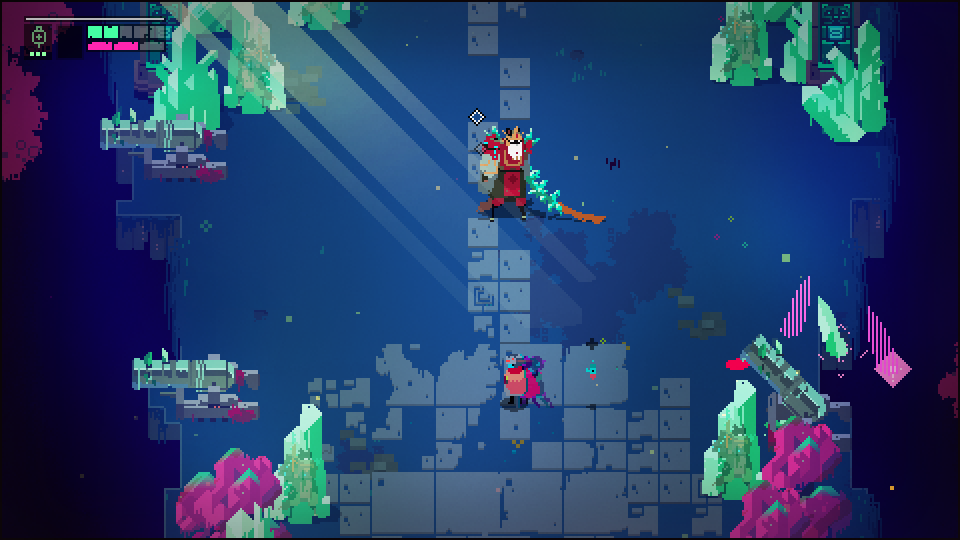hanged_crys: (777, 274, 810, 345), (818, 292, 851, 363), (865, 306, 898, 377)
hanged_man: (474, 125, 570, 225)
player: (501, 350, 532, 406)
